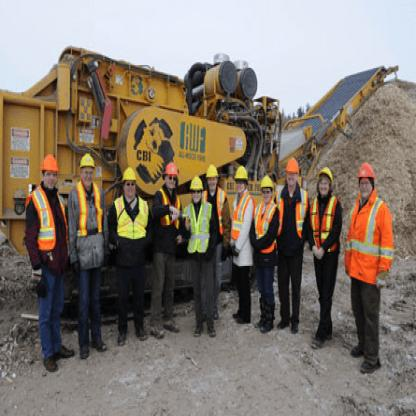person: (347, 150, 392, 396), (21, 156, 70, 369), (71, 139, 108, 365), (110, 144, 147, 355), (307, 152, 342, 357), (182, 164, 214, 334), (148, 153, 176, 334), (226, 154, 250, 326), (279, 136, 300, 331), (253, 167, 276, 334), (204, 156, 219, 199)
